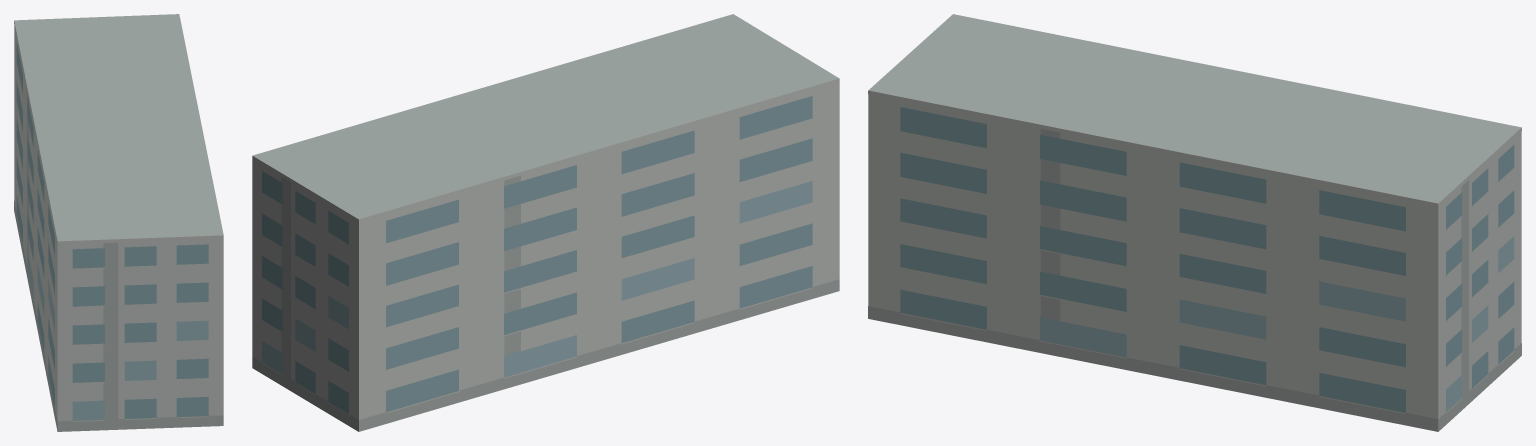
File: survey-upis-32488310.glb
3 views of the same model, side by side, from view 1: azimuth 30°, elevation 25°; view 2: azimuth 150°, elevation 25°; view 3: azimuth 270°, elevation 25° (orthographic). The views are drawn at different scales.
Parts seen in each view (by area): view 1: survey-upis-32488310.tmp; view 2: survey-upis-32488310.tmp; view 3: survey-upis-32488310.tmp.
Part boxes in pixels (box(x1,y1,x2,y2)): survey-upis-32488310.tmp: box(14, 14, 223, 431); survey-upis-32488310.tmp: box(252, 14, 839, 431); survey-upis-32488310.tmp: box(868, 14, 1521, 431).
Size of the model in its own units: 24.85 by 13.95 by 36.2.
